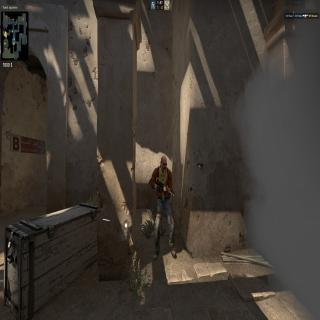T-Head: (160, 155, 168, 172)
